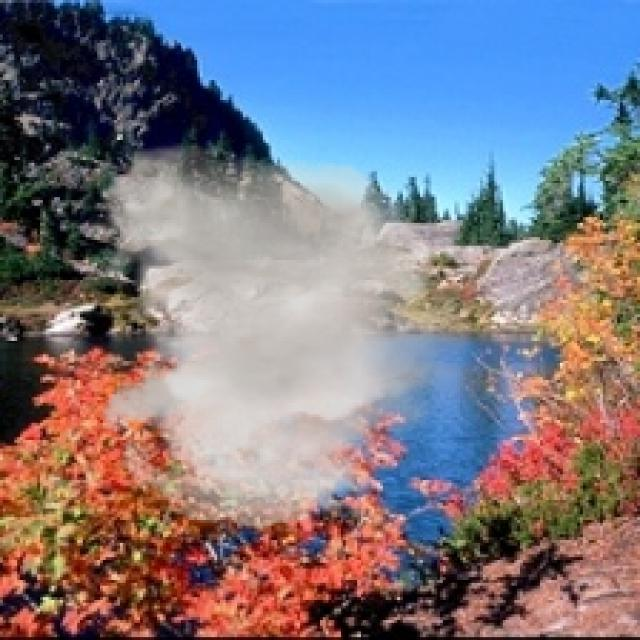smoke: (88, 143, 486, 528)
